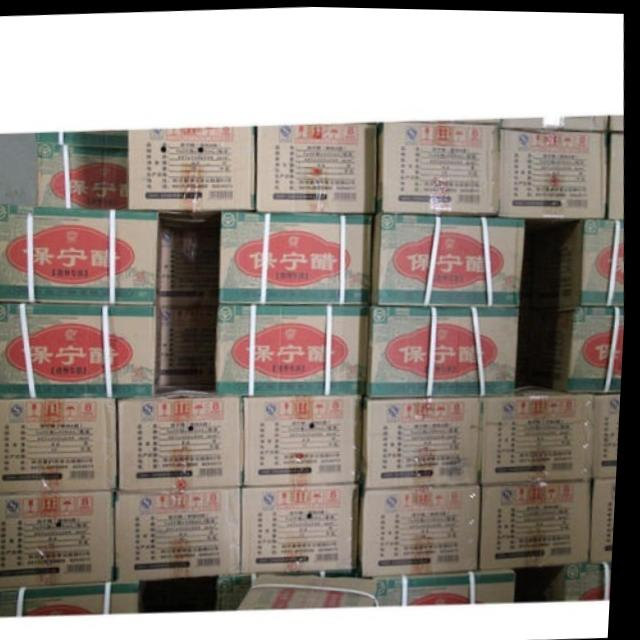box: (0, 201, 162, 304), (0, 300, 164, 395), (221, 207, 375, 305), (375, 212, 528, 305), (220, 303, 373, 395), (119, 381, 248, 487), (370, 304, 522, 393), (486, 377, 599, 486), (0, 488, 121, 588), (379, 117, 503, 214), (0, 396, 122, 494), (121, 487, 249, 578), (246, 394, 370, 486), (367, 394, 489, 486), (364, 481, 486, 573), (257, 122, 379, 213), (245, 481, 364, 572), (130, 129, 258, 208), (485, 476, 595, 564), (505, 127, 611, 214), (536, 214, 626, 306), (532, 303, 626, 390), (377, 561, 520, 604), (40, 143, 133, 206), (159, 299, 220, 389), (0, 579, 144, 617), (159, 218, 220, 305), (247, 575, 384, 607), (534, 558, 618, 600), (596, 390, 625, 475), (595, 475, 621, 557), (504, 114, 608, 129), (34, 132, 130, 148), (609, 130, 624, 215), (221, 574, 258, 607), (433, 118, 504, 126), (610, 112, 624, 132)
